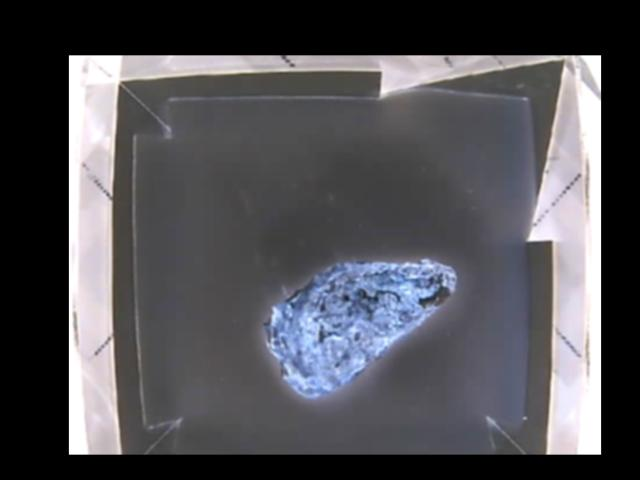Shell: (261, 259, 455, 398)
